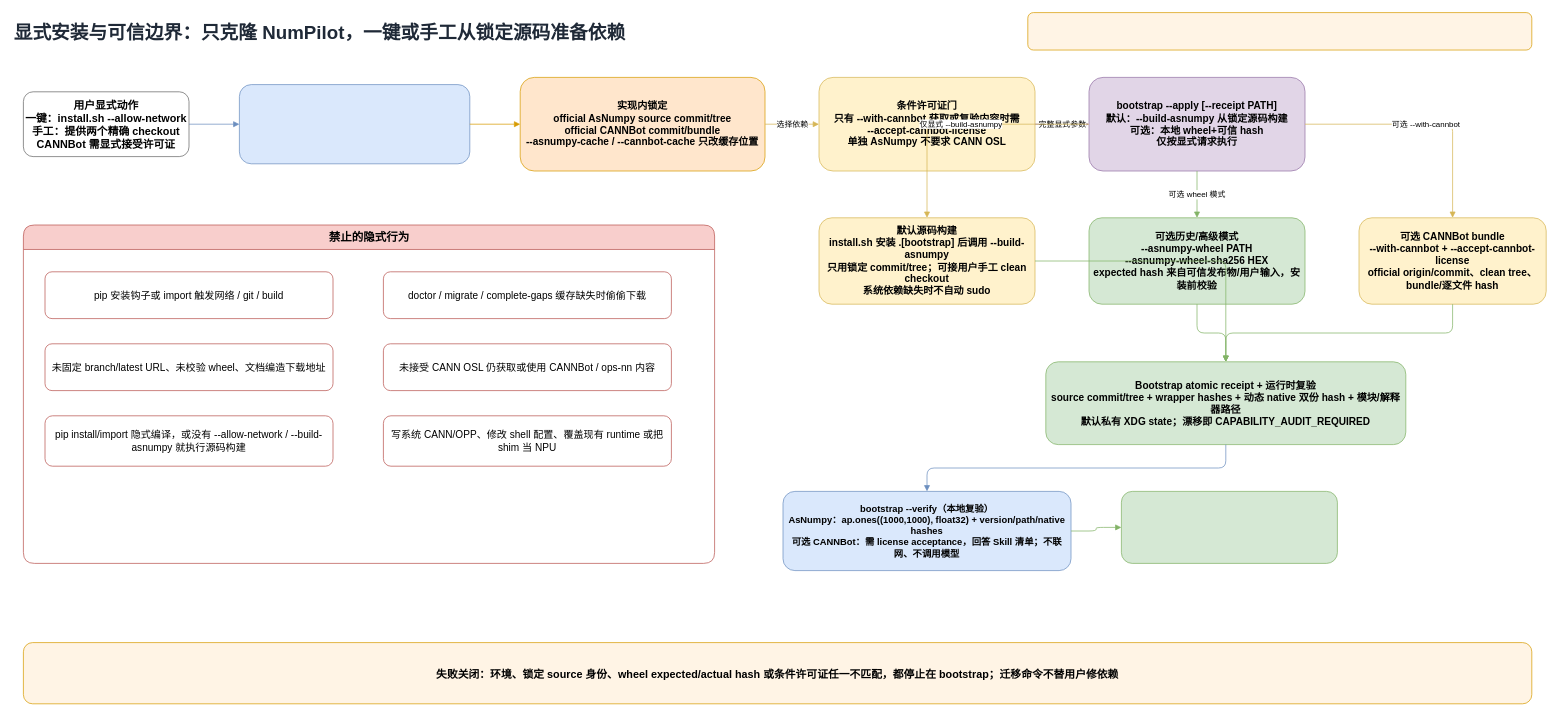
Some shapes in this 1559 by 716 pixel diagram are drawn without their labels. The shapes that lost their labels are listed below. From the top down, each one's centre as x and y in pixels, then its label:
At [1279,31]: "默认不使用 wheelhouse；source 身份由实现精确锁定，历史 wheel+hash 只保留为可选高级路径".
At [354,124]: "bootstrap [--plan] [--json] 默认只读；检查环境并展示网络/文件/构建动作 不 clone/fetch/build/install".
At [1229,527]: "Prepared runtime capability 另行绑定 runtime/profile doctor 只检查；migrate 只扫描/迁移".
